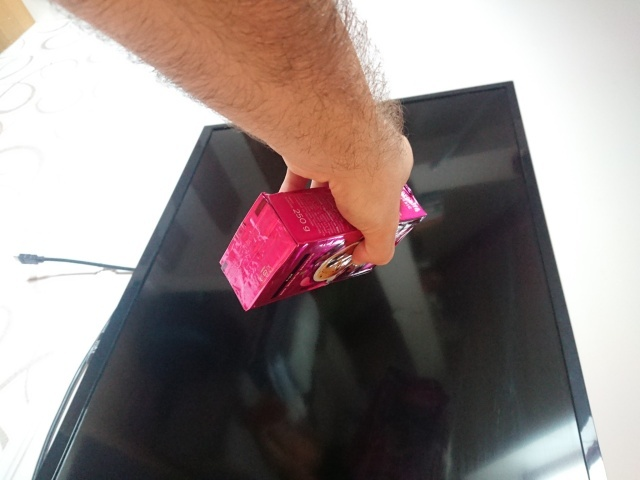Barcaffe Classic Original 225g: (217, 175, 429, 314)
